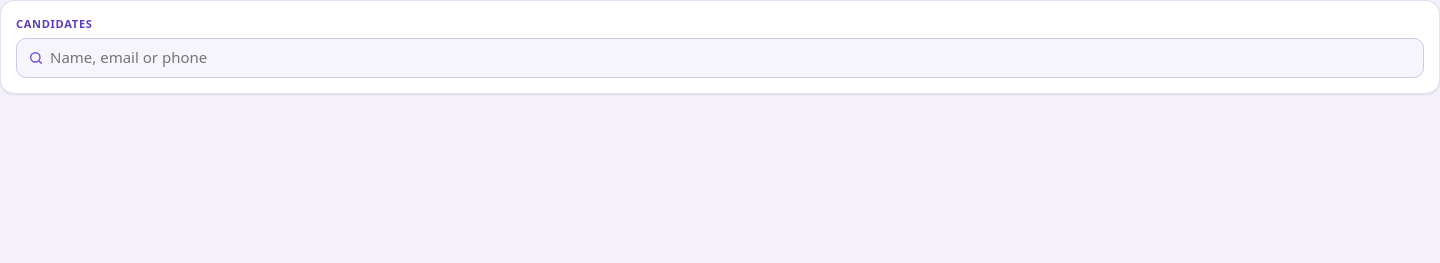
Test case: dashboard search › finds candidates as you type, offers names alike, and Enter opens the list
Later steps or results of the test are not shown.
Step 1. Type "edran" into the search field named "Search candidates" → (720, 58), box [16,38,1424,78]
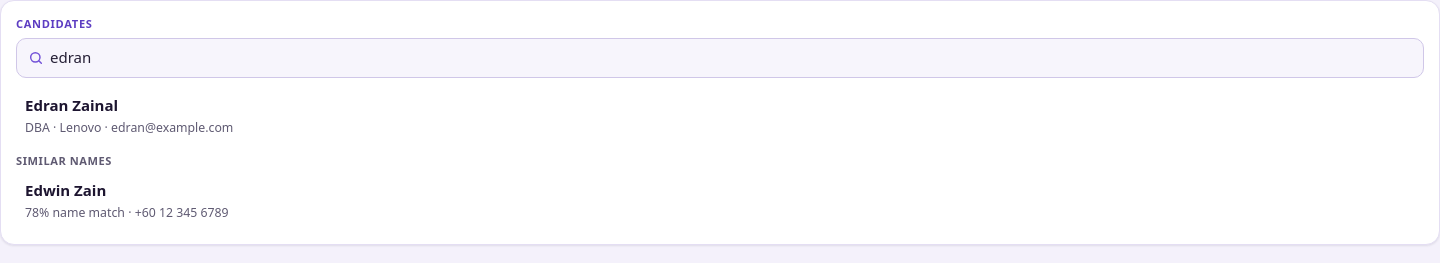
Expected: the list named "Candidates" shows "DBA · Lenovo · edran@example.com", [16,87,1424,143]
Expected: the links read "Edwin Zain78% name match · +60 12 345 6789", in this order, [25,180,229,221]
